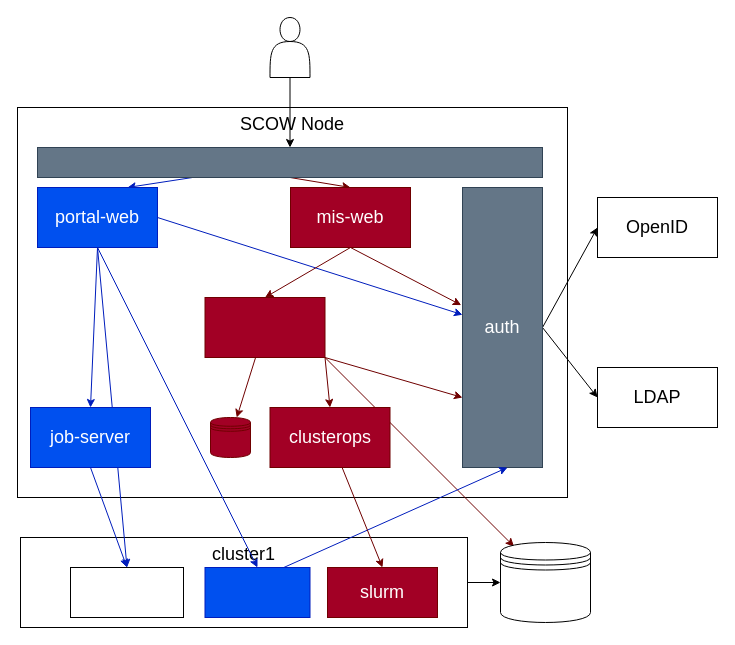
The diagram is 735 pixels wide and 645 high, and some of its shapes have lost their labels. Here are the shapes that lost their labels. From the top down, the centre of each, then its label:
point 289,162: gateway
point 264,327: mis-server
point 127,592: login-node
point 257,592: file-server
point 545,582: job_table
